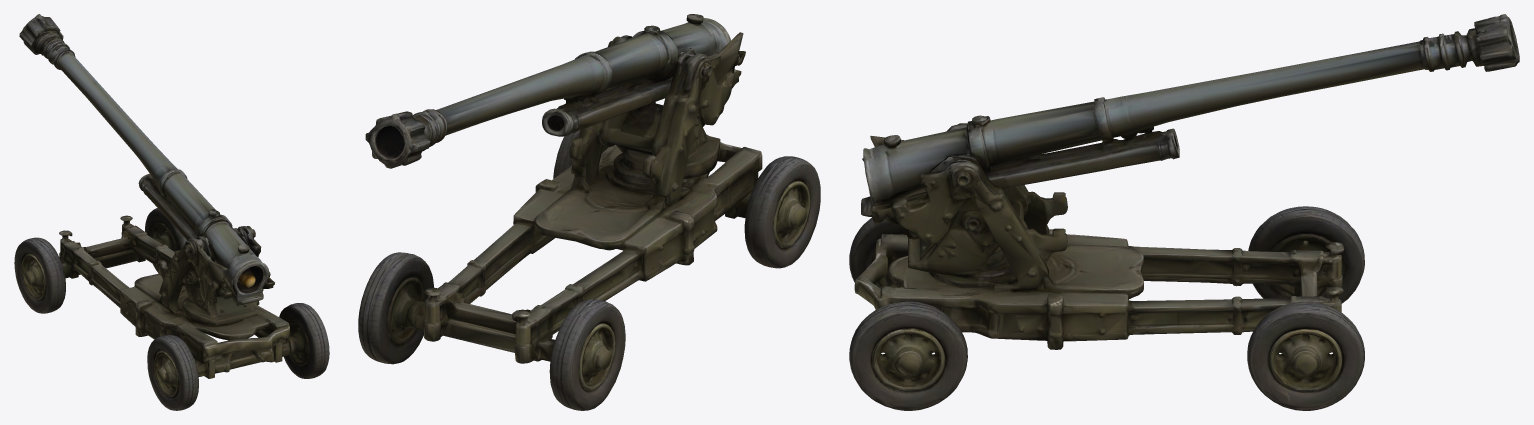
File: howitzer.glb
The picture shows the model from 3 angles, left to right: view 1: azimuth 30°, elevation 25°; view 2: azimuth 150°, elevation 25°; view 3: azimuth 270°, elevation 25°; orthographic projection. The views are drawn at different scales.
Parts seen in each view (by area): view 1: node_0; view 2: node_0; view 3: node_0.
Part boxes in pixels (bbox=[...]): node_0: bbox=[14, 14, 329, 410]; node_0: bbox=[358, 14, 820, 410]; node_0: bbox=[849, 14, 1519, 410].
Bounding box in the file's own units: 0.4225 × 0.5975 × 1.05.
1 material, 1 textured.
